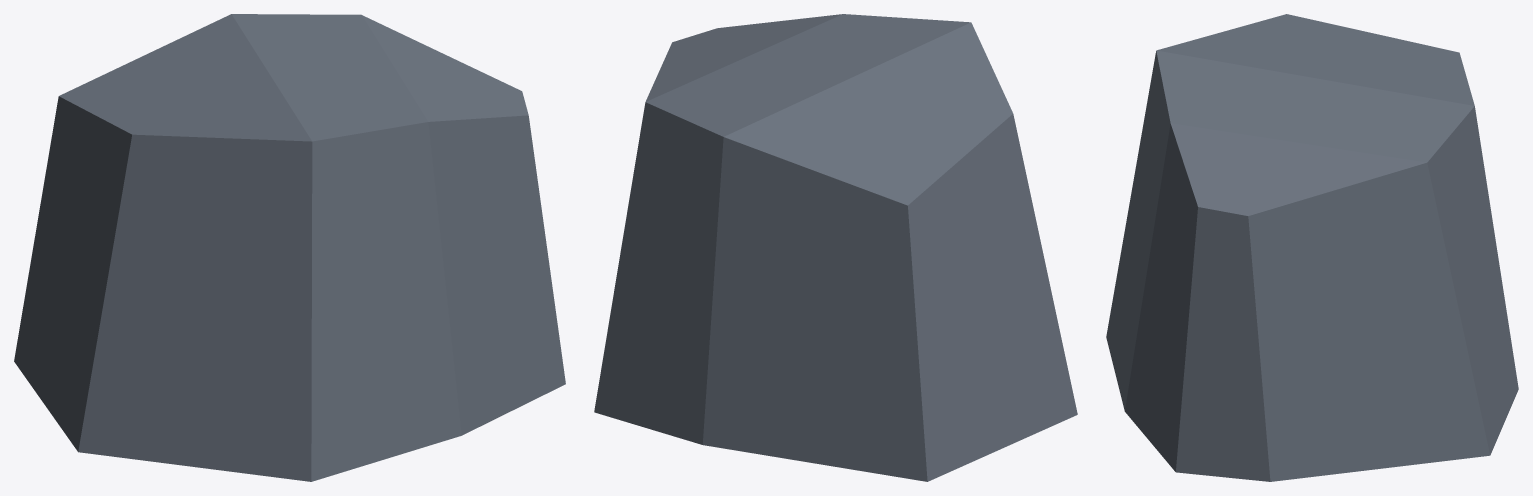
The model's file is Rock_1.glb.
3 views of the same model, side by side, from view 1: azimuth 30°, elevation 25°; view 2: azimuth 150°, elevation 25°; view 3: azimuth 270°, elevation 25° (orthographic). The views are drawn at different scales.
Parts seen in each view (by area): view 1: Rock_1; view 2: Rock_1; view 3: Rock_1.
Part boxes in pixels (x1=…): Rock_1: x1=14, y1=14, x2=565, y2=481; Rock_1: x1=594, y1=14, x2=1077, y2=481; Rock_1: x1=1106, y1=14, x2=1518, y2=481.
Size of the model in its own units: 0.255 by 0.1725 by 0.2099.
